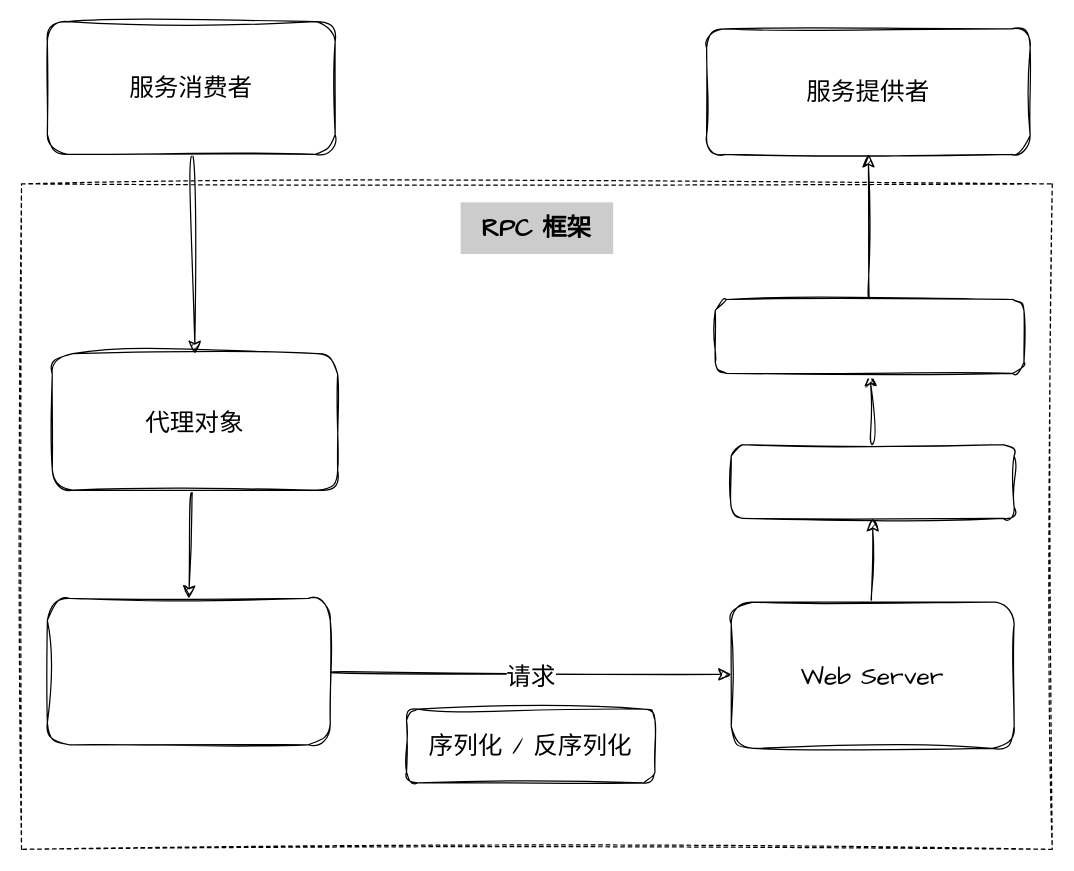
This 1074x871 diagram has some shape labels left out. Here are the shapes that lost their labels. From the top down, the centre of each, then its label:
the point at 869,335: 本地服务注册器
the point at 872,480: 请求处理器
the point at 188,671: 请求客户端 HTTP / 其他
